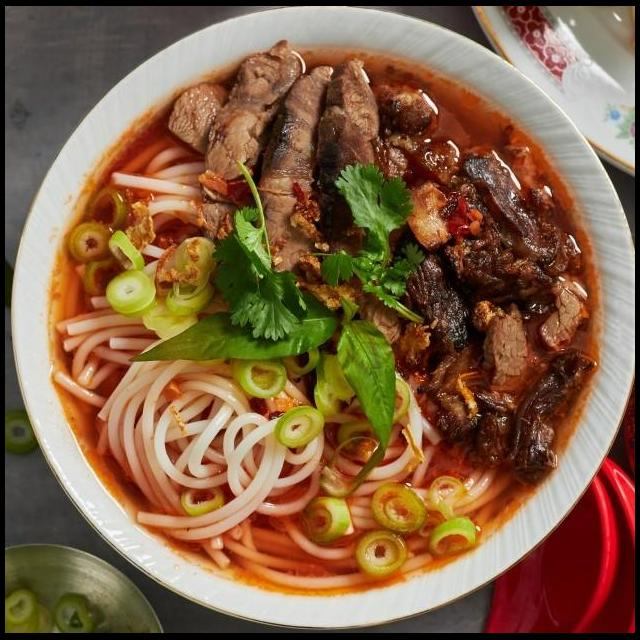bun: (304, 44, 594, 330), (120, 48, 326, 274), (398, 300, 589, 500)
bun bo: (17, 47, 622, 599)
thit bo: (328, 393, 448, 608), (301, 356, 392, 582), (45, 234, 173, 374), (253, 372, 329, 586), (399, 476, 476, 566)
